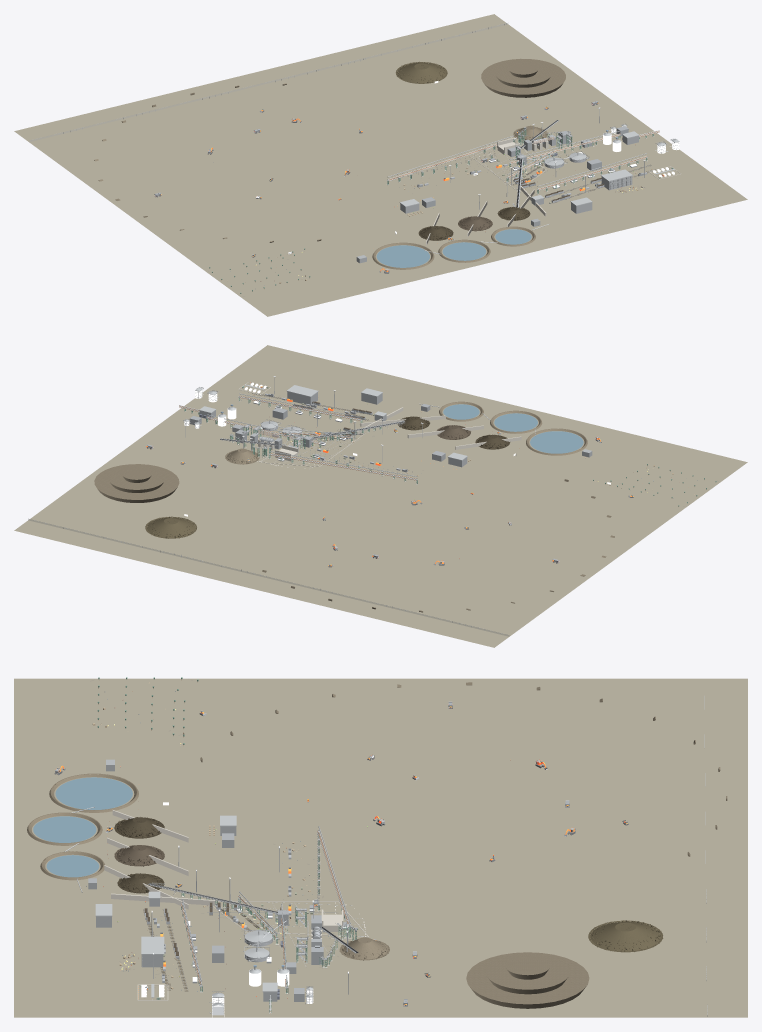
Rendered from lateritemine.glb.
3 renders of one model, top to bottom at view 1: azimuth 30°, elevation 25°; view 2: azimuth 150°, elevation 25°; view 3: azimuth 270°, elevation 25°, orthographic. The views are drawn at different scales.
Visible parts, largest first — view 1: structure/mat_8b8166_49, structure/waste, structure/water, galv/galv, structure/steelD, structure/concrete, structure/pipeM, structure/clad, structure/dirt, fence/mesh, structure/green, structure/pipeR (+3 smaller); view 2: structure/mat_8b8166_49, structure/waste, structure/water, galv/galv, structure/steelD, structure/concrete, structure/pipeR, structure/dirt, structure/pipeM, structure/clad, structure/green, fence/mesh (+3 smaller); view 3: structure/mat_8b8166_49, structure/waste, structure/water, galv/galv, structure/concrete, structure/steelD, structure/dirt, structure/oreRich, structure/roof, structure/green, structure/clad, structure/ore (+3 smaller).
Part boxes in pixels (box(x1,y1,x2,y2)): structure/mat_8b8166_49: box(14, 14, 747, 316); structure/waste: box(94, 58, 655, 269); structure/water: box(376, 229, 531, 267); galv/galv: box(387, 109, 679, 250); structure/steelD: box(394, 108, 654, 251); structure/concrete: box(387, 136, 680, 244); structure/pipeM: box(388, 130, 676, 254); structure/clad: box(356, 134, 638, 263); structure/dirt: box(395, 62, 447, 83); fence/mesh: box(29, 23, 507, 141); structure/green: box(209, 128, 653, 293); structure/pipeR: box(209, 130, 659, 291); structure/mat_8b8166_49: box(14, 345, 747, 647); structure/waste: box(94, 394, 614, 612); structure/water: box(443, 404, 583, 453); galv/galv: box(183, 377, 535, 480); structure/steelD: box(183, 376, 535, 475); structure/concrete: box(184, 382, 521, 484); structure/pipeR: box(179, 395, 706, 498); structure/dirt: box(145, 516, 196, 538); structure/pipeM: box(179, 394, 535, 479); structure/clad: box(199, 391, 592, 467); structure/green: box(184, 398, 716, 506); fence/mesh: box(28, 519, 508, 636); structure/mat_8b8166_49: box(14, 678, 747, 1017); structure/waste: box(27, 682, 727, 1008); structure/water: box(33, 777, 132, 877); galv/galv: box(64, 806, 357, 1012); structure/concrete: box(104, 810, 368, 1013); structure/steelD: box(72, 808, 358, 1011); structure/dirt: box(588, 920, 662, 952); structure/oreRich: box(114, 817, 164, 893); structure/roof: box(95, 815, 277, 997); structure/green: box(97, 677, 358, 1012); structure/clad: box(96, 759, 321, 1001); structure/ore: box(114, 845, 236, 955).
Bounding box in the file's own units: 911 × 59.23 × 833.
Materials: 50 (9 with a texture image).
